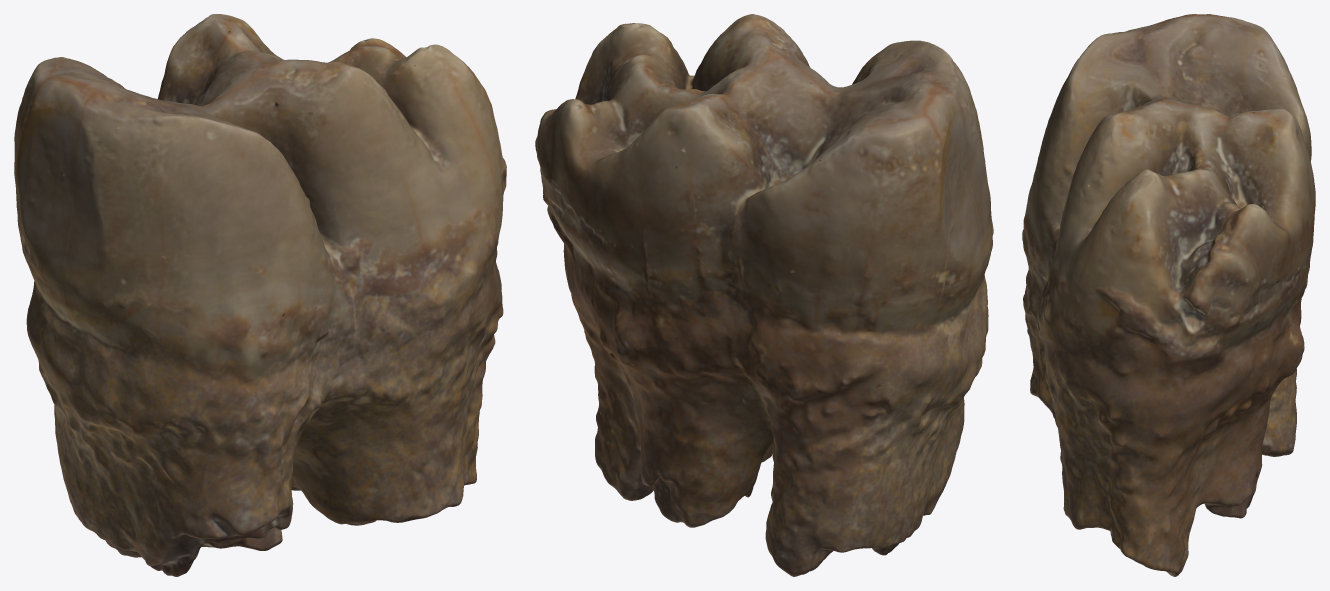
The picture shows the model from 3 angles, left to right: view 1: azimuth 30°, elevation 25°; view 2: azimuth 150°, elevation 25°; view 3: azimuth 270°, elevation 25°; orthographic projection. The views are drawn at different scales.
Visible parts, largest first — view 1: Fossil_Sea_Cow_from_Al_Maszhabiya-150k; view 2: Fossil_Sea_Cow_from_Al_Maszhabiya-150k; view 3: Fossil_Sea_Cow_from_Al_Maszhabiya-150k.
Boxes of the visible parts, box(x1,y1,x2,y2) form: Fossil_Sea_Cow_from_Al_Maszhabiya-150k: box(14, 14, 506, 576); Fossil_Sea_Cow_from_Al_Maszhabiya-150k: box(535, 14, 993, 576); Fossil_Sea_Cow_from_Al_Maszhabiya-150k: box(1022, 14, 1315, 576).
Size of the model in its own units: 0.0193 by 0.0211 by 0.0131.
1 material, 1 textured.
